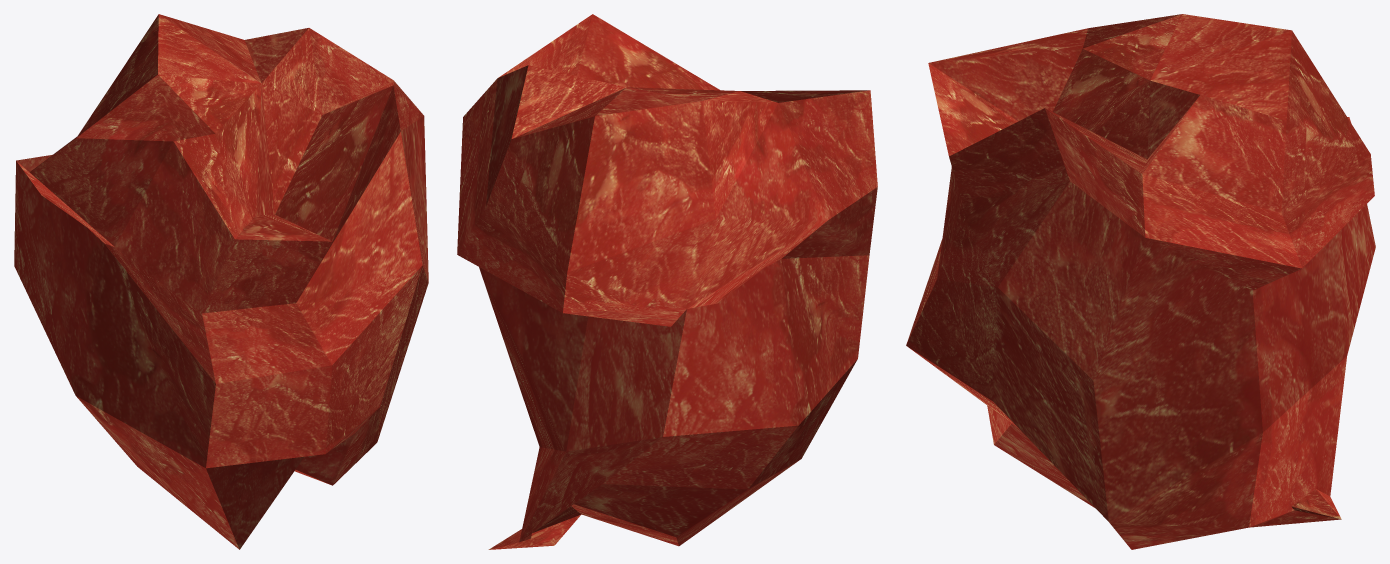
File: Gib3.fbx
3 views of the same model, side by side, from view 1: azimuth 30°, elevation 25°; view 2: azimuth 150°, elevation 25°; view 3: azimuth 270°, elevation 25° (orthographic). The views are drawn at different scales.
Parts seen in each view (by area): view 1: Sphere; view 2: Sphere; view 3: Sphere.
Boxes of the visible parts, <box> form: Sphere: <box>14,14,428,549</box>; Sphere: <box>457,14,877,549</box>; Sphere: <box>906,14,1375,549</box>.
Size of the model in its own units: 26.06 by 34.84 by 29.65.
1 material, 1 textured.
